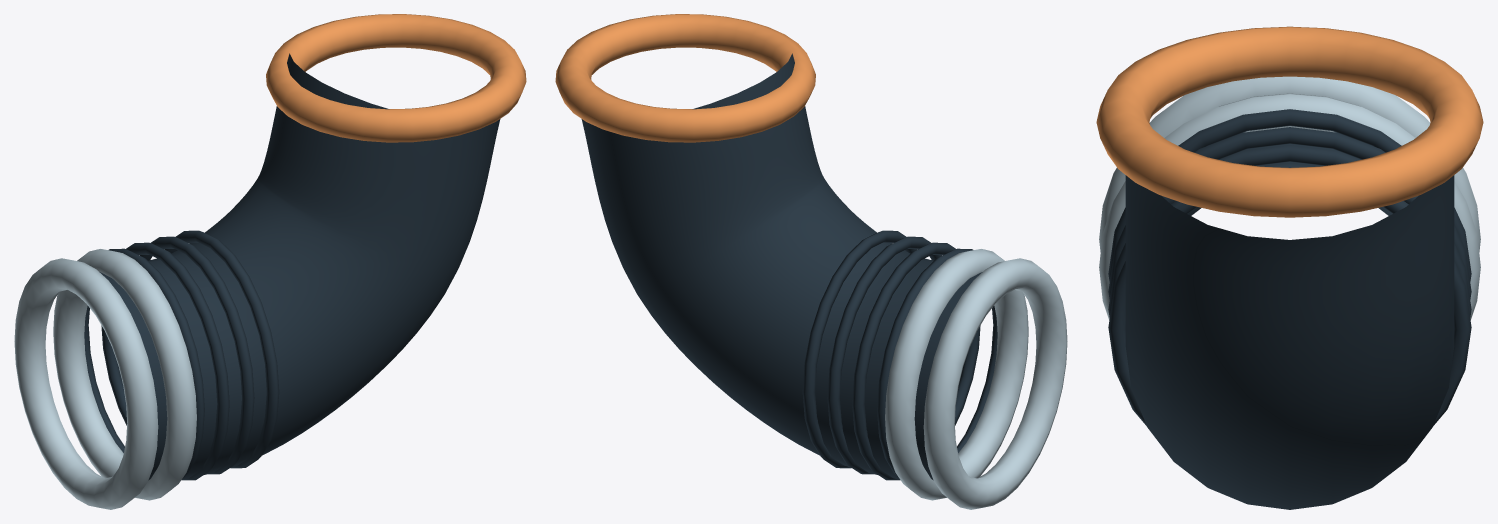
The model's file is duct.glb.
3 renders of one model, left to right at view 1: azimuth 30°, elevation 25°; view 2: azimuth 150°, elevation 25°; view 3: azimuth 270°, elevation 25°, orthographic. The views are drawn at different scales.
Visible parts, largest first — view 1: duct; view 2: duct; view 3: duct.
Part boxes in pixels (bbox=[...]): duct: bbox=[14, 14, 526, 509]; duct: bbox=[555, 14, 1067, 509]; duct: bbox=[1096, 26, 1483, 509].
Size of the model in its own units: 2.82 by 2.32 by 1.46.
